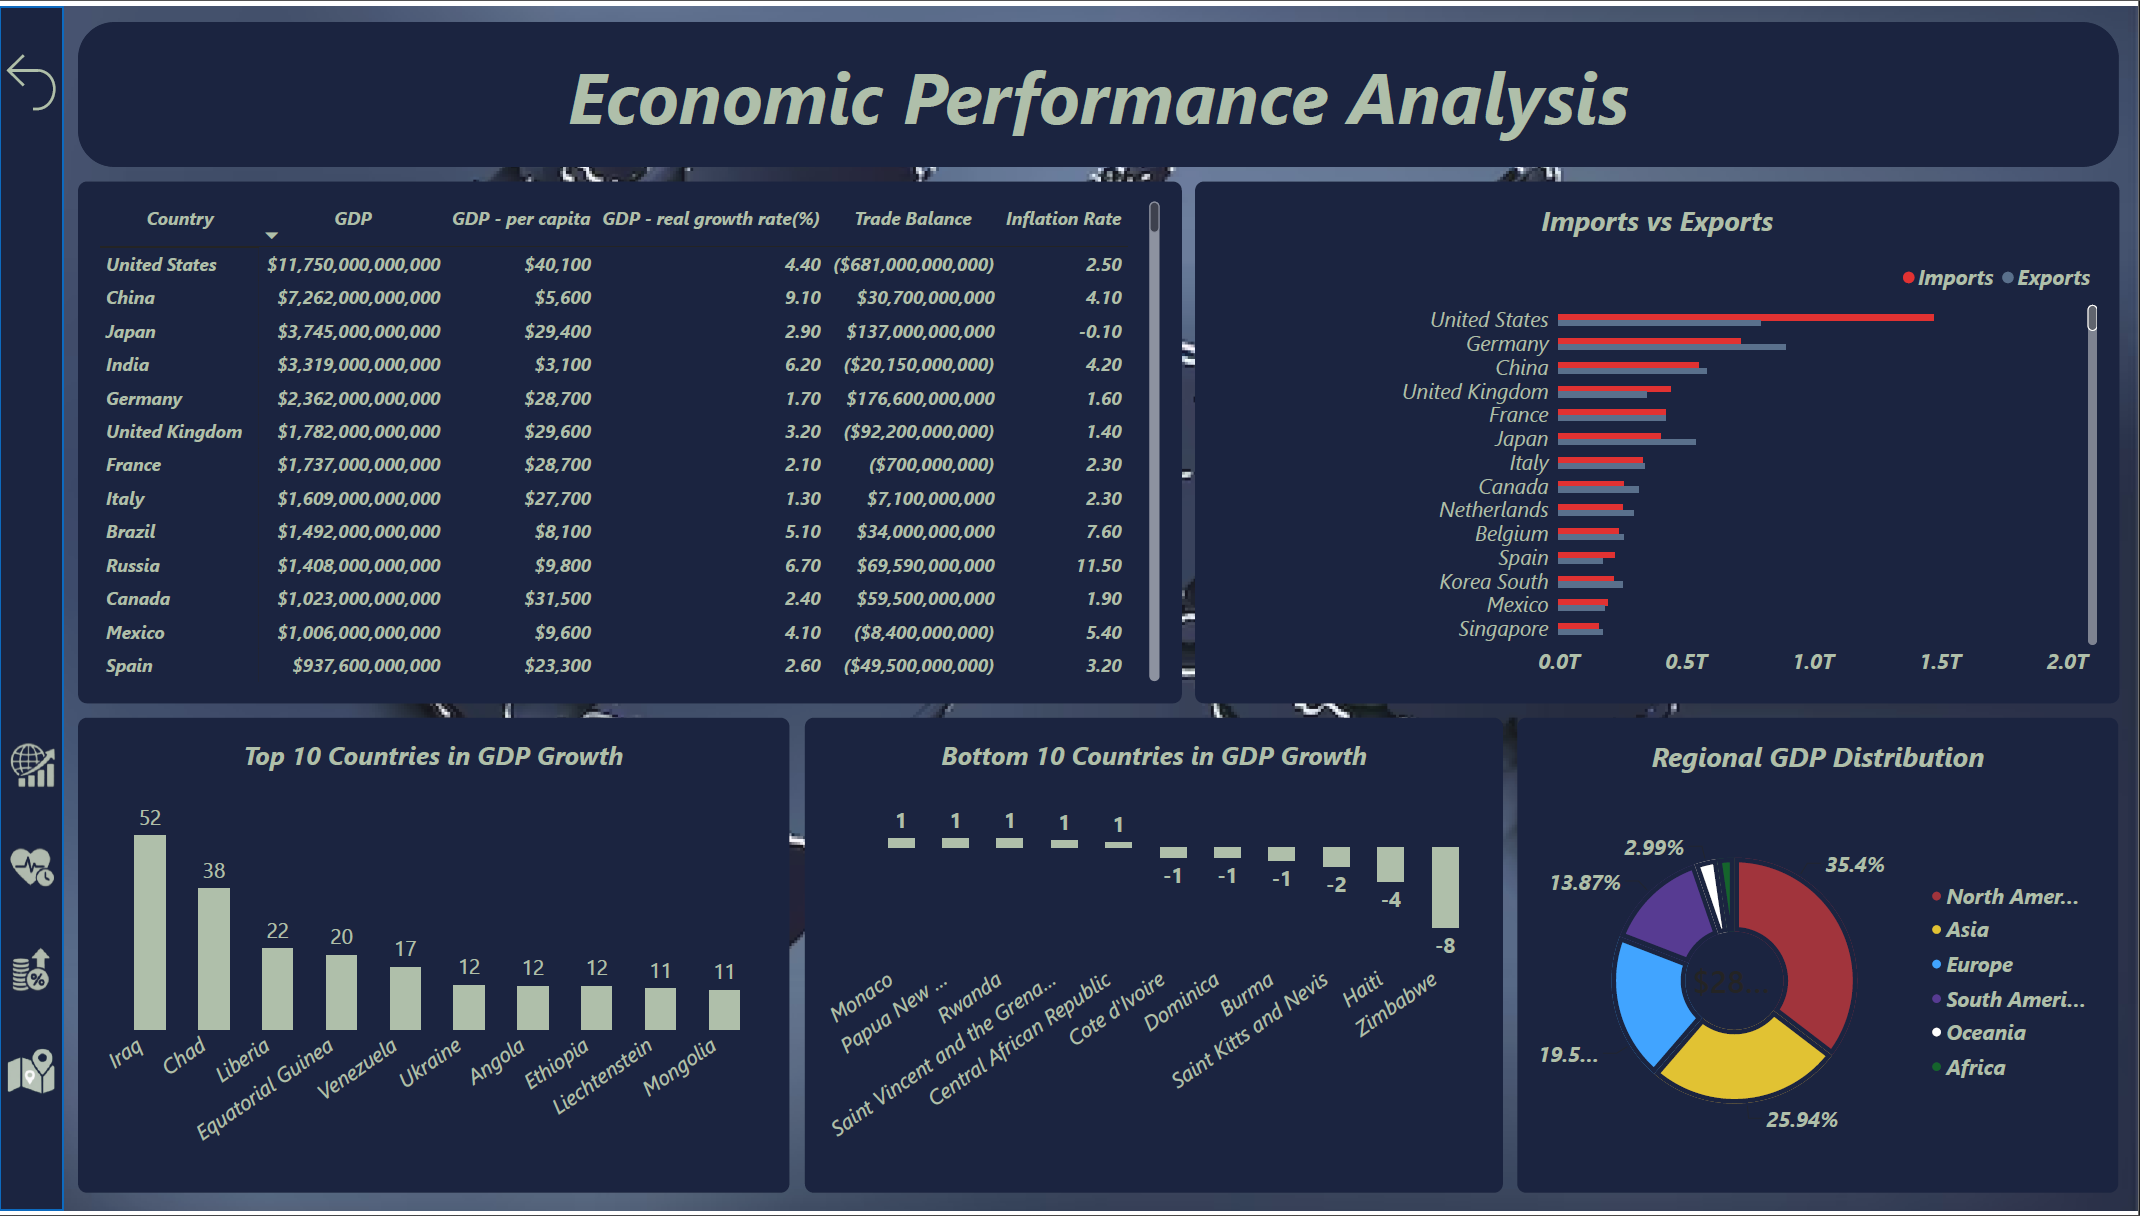

The page's visual inventory and layout, read from the dashboard file:
{"tool":"powerbi","page":{"name":"Economic Performance Analysis","canvas":[1920,1080],"ordinal":2},"visuals":[{"type":"shape","box":[0,0,58,1080.2],"z":0,"group":"g1"},{"type":"shape","box":[71.2,14.2,1830.4,129.7],"z":0},{"type":"clusteredBarChart","title":"Imports vs Exports","fields":{"Category":["Country Data Comparison.Country"],"Y":["Sum(Country Data Comparison.Imports)","Sum(Country Data Comparison.Exports)"]},"box":[1072.6,156.6,829,468.3],"z":1000},{"type":"actionButton","box":[1.8,723.2,58,87],"z":1000,"group":"g1"},{"type":"pivotTable","fields":{"Rows":["Country Data Comparison.Country"],"Values":["Country Measures.Average GDP","Avg(Country Data Comparison.GDP - per capita)","Avg(Country Data Comparison.GDP - real growth rate(%))","Sum(Country Data Comparison.Trade Balance)","Country Measures.AVG Inflation Rate"]},"box":[71.2,156.6,990.4,468.3],"z":2000},{"type":"actionButton","box":[0,814.4,58,87],"z":2000,"group":"g1"},{"type":"actionButton","box":[0,630.7,58,87],"z":3000,"group":"g1"},{"type":"columnChart","title":"Top 10 Countries in GDP Growth","fields":{"Category":["Country Data Comparison.Country"],"Y":["Sum(Country Data Comparison.GDP - real growth rate(%))"]},"box":[71.2,637.6,637.6,425.6],"z":3000},{"type":"columnChart","title":"Bottom 10 Countries in GDP Growth","fields":{"Category":["Country Data Comparison.Country"],"Y":["Sum(Country Data Comparison.GDP - real growth rate(%))"]},"box":[723,637.6,626.5,425.6],"z":4000},{"type":"actionButton","box":[0,906.2,58,87],"z":4000,"group":"g1"},{"type":"donutChart","title":"Regional GDP Distribution","fields":{"Category":["Country Data Comparison.Continent"],"Y":["Country Measures.Average GDP"]},"box":[1362.1,637.6,539.5,425.6],"z":5000},{"type":"group","id":"g1","title":"Group 1","box":[0,0,59.8,1080.2],"z":5001},{"type":"actionButton","box":[0,14.2,58,105.1],"z":5002}]}

Visuals, with their boxes on the page's 1920x1080 design canvas (x1, y1, x2, y2). These are canvas units, not pixel positions in the 2140x1216 screenshot, which may show the page scaled, cropped or inside an application window:
shape: [0, 0, 58, 1080]
shape: [71, 14, 1902, 144]
"Imports vs Exports" clusteredBarChart: [1073, 157, 1902, 625]
actionButton: [2, 723, 60, 810]
pivotTable - Country Data Comparison.Country x Country Measures.Average GDP: [71, 157, 1062, 625]
actionButton: [0, 814, 58, 901]
actionButton: [0, 631, 58, 718]
"Top 10 Countries in GDP Growth" columnChart: [71, 638, 709, 1063]
"Bottom 10 Countries in GDP Growth" columnChart: [723, 638, 1350, 1063]
actionButton: [0, 906, 58, 993]
"Regional GDP Distribution" donutChart: [1362, 638, 1902, 1063]
"Group 1" group: [0, 0, 60, 1080]
actionButton: [0, 14, 58, 119]
